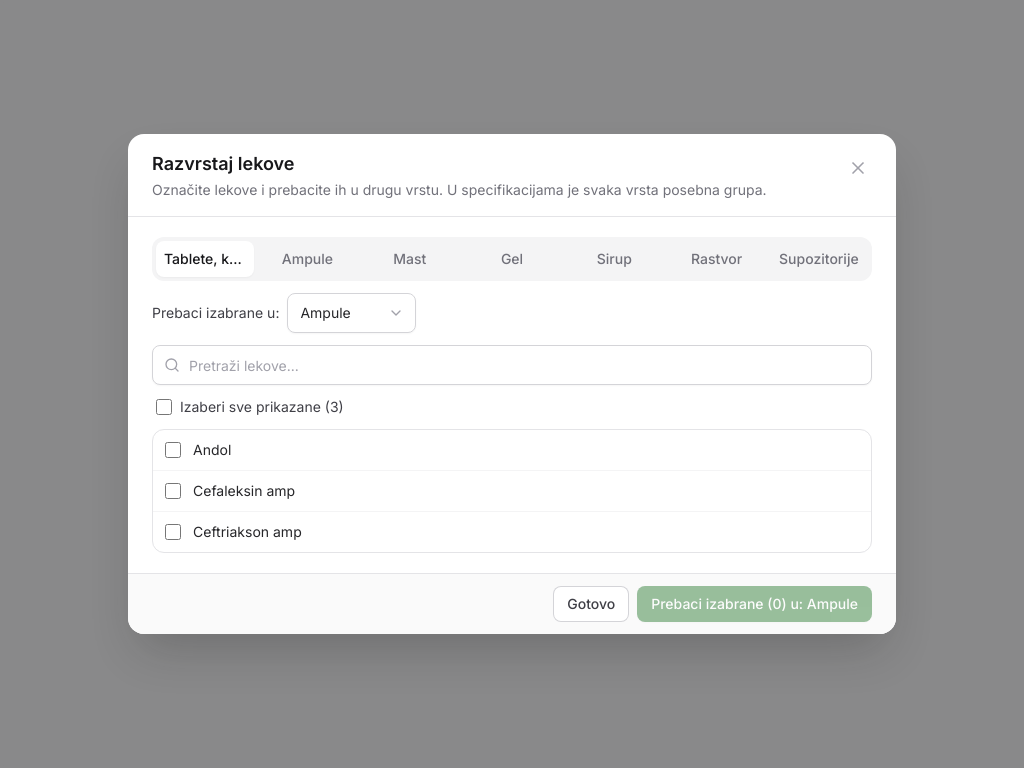
Scenario: SortMedicinesDialog › pretraga, izbor i prebacivanje u ampule
Later steps or results of the test are not shown.
Type "cef" into the field labelled "Pretraži lekove" at (512, 365), box x1=152 y1=345 x2=872 y2=385
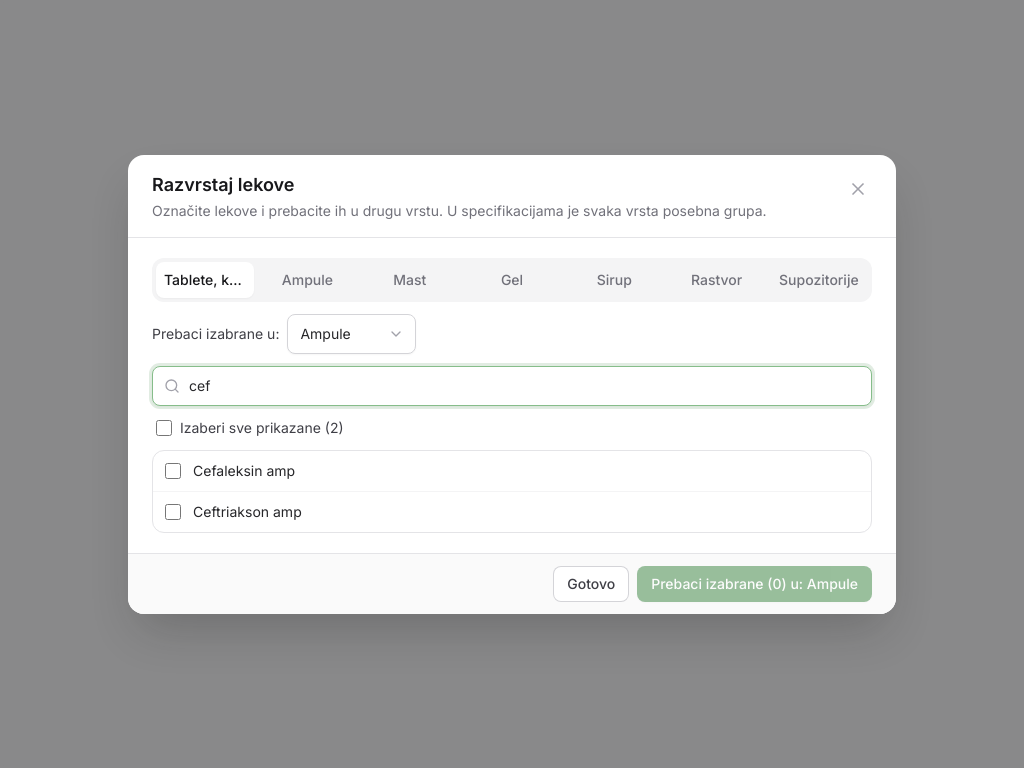
Result: the text "Andol" is gone
